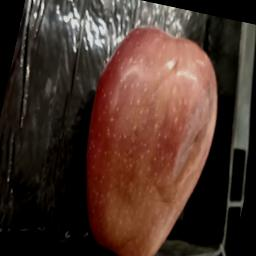Apple Unripe: (58, 13, 253, 256)
